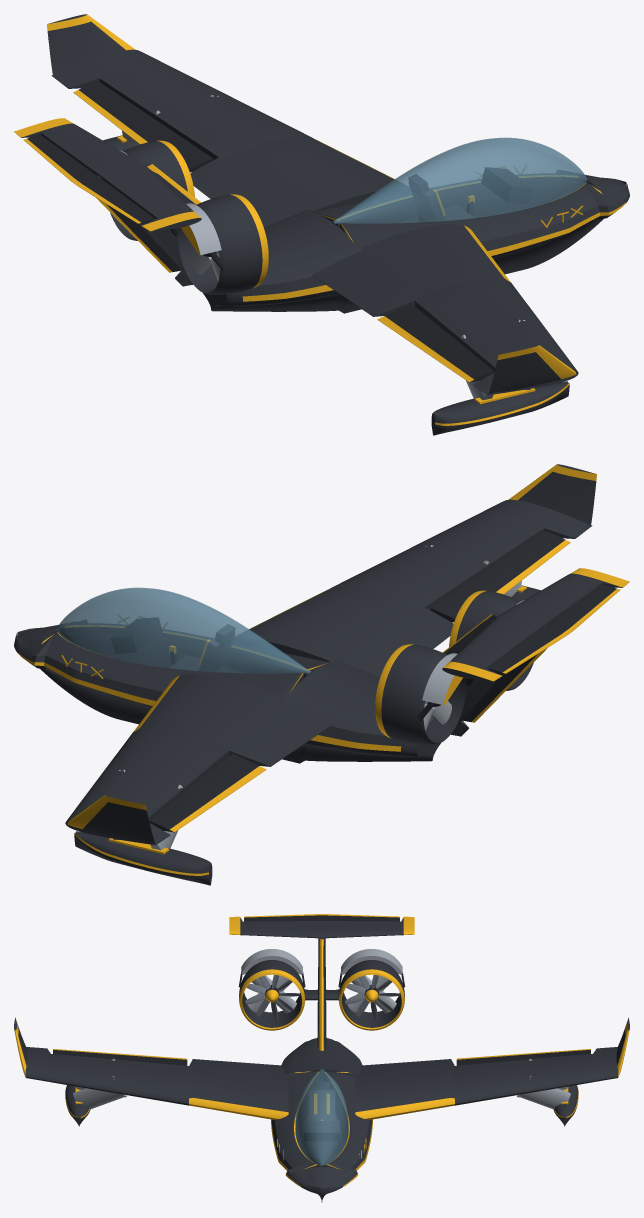
Rendered from ricochet-concept-a.glb.
3 views of the same model, one above another, from view 1: azimuth 30°, elevation 25°; view 2: azimuth 150°, elevation 25°; view 3: azimuth 270°, elevation 25° (orthographic). The views are drawn at different scales.
Parts seen in each view (by area): view 1: Ricochet_ConceptA_Hull_Cabin, Ricochet_Wing_Port, Ricochet_Wing_Stbd, Ricochet_Canopy_Glass, Ricochet_Tail_Pylon_T_Tail, Ricochet_Duct_Stbd, Ricochet_Aileron_Port, Ricochet_Aileron_Stbd, Ricochet_Sponson_Stbd, Ricochet_Winglet_Port, Ricochet_Cockpit_Interior, Ricochet_Winglet_Stbd (+4 smaller); view 2: Ricochet_ConceptA_Hull_Cabin, Ricochet_Wing_Stbd, Ricochet_Wing_Port, Ricochet_Canopy_Glass, Ricochet_Tail_Pylon_T_Tail, Ricochet_Duct_Port, Ricochet_Aileron_Stbd, Ricochet_Aileron_Port, Ricochet_Sponson_Port, Ricochet_Winglet_Stbd, Ricochet_Cockpit_Interior, Ricochet_Winglet_Port (+4 smaller); view 3: Ricochet_Wing_Port, Ricochet_Wing_Stbd, Ricochet_ConceptA_Hull_Cabin, Ricochet_Tail_Pylon_T_Tail, Ricochet_Canopy_Glass, Ricochet_Duct_Port, Ricochet_Duct_Stbd, Ricochet_Cockpit_Interior, Ricochet_Elevator, Ricochet_Aileron_Port, Ricochet_Aileron_Stbd, Ricochet_Fan_Rotor_Port (+7 smaller).
Part boxes in pixels (x1,y1,x2,y2): Ricochet_ConceptA_Hull_Cabin: (203, 175, 629, 313); Ricochet_Wing_Port: (51, 49, 394, 227); Ricochet_Wing_Stbd: (312, 224, 578, 395); Ricochet_Canopy_Glass: (332, 137, 587, 223); Ricochet_Tail_Pylon_T_Tail: (14, 118, 201, 286); Ricochet_Duct_Stbd: (178, 194, 268, 294); Ricochet_Aileron_Port: (73, 81, 213, 172); Ricochet_Aileron_Stbd: (377, 303, 494, 382); Ricochet_Sponson_Stbd: (431, 381, 569, 435); Ricochet_Winglet_Port: (47, 14, 135, 75); Ricochet_Cockpit_Interior: (408, 167, 532, 222); Ricochet_Winglet_Stbd: (488, 345, 576, 394); Ricochet_ConceptA_Hull_Cabin: (14, 625, 440, 763); Ricochet_Wing_Stbd: (249, 499, 592, 677); Ricochet_Wing_Port: (65, 674, 331, 845); Ricochet_Canopy_Glass: (56, 587, 311, 673); Ricochet_Tail_Pylon_T_Tail: (442, 568, 629, 736); Ricochet_Duct_Port: (375, 644, 465, 744); Ricochet_Aileron_Stbd: (430, 531, 570, 622); Ricochet_Aileron_Port: (149, 753, 266, 832); Ricochet_Sponson_Port: (74, 831, 212, 885); Ricochet_Winglet_Stbd: (508, 464, 596, 525); Ricochet_Cockpit_Interior: (111, 617, 235, 672); Ricochet_Winglet_Port: (67, 795, 155, 844); Ricochet_Wing_Port: (355, 1047, 618, 1119); Ricochet_Wing_Stbd: (25, 1047, 288, 1119); Ricochet_ConceptA_Hull_Cabin: (271, 1038, 372, 1202); Ricochet_Tail_Pylon_T_Tail: (229, 916, 414, 1050); Ricochet_Canopy_Glass: (295, 1069, 348, 1165); Ricochet_Duct_Port: (338, 960, 404, 1030); Ricochet_Duct_Stbd: (239, 960, 305, 1030); Ricochet_Cockpit_Interior: (304, 1082, 339, 1140); Ricochet_Elevator: (244, 914, 399, 921); Ricochet_Aileron_Port: (456, 1049, 590, 1065); Ricochet_Aileron_Stbd: (53, 1049, 187, 1065); Ricochet_Fan_Rotor_Port: (345, 975, 399, 1019).
Bounding box in the file's own units: 6.78 × 2.34 × 9.64.
